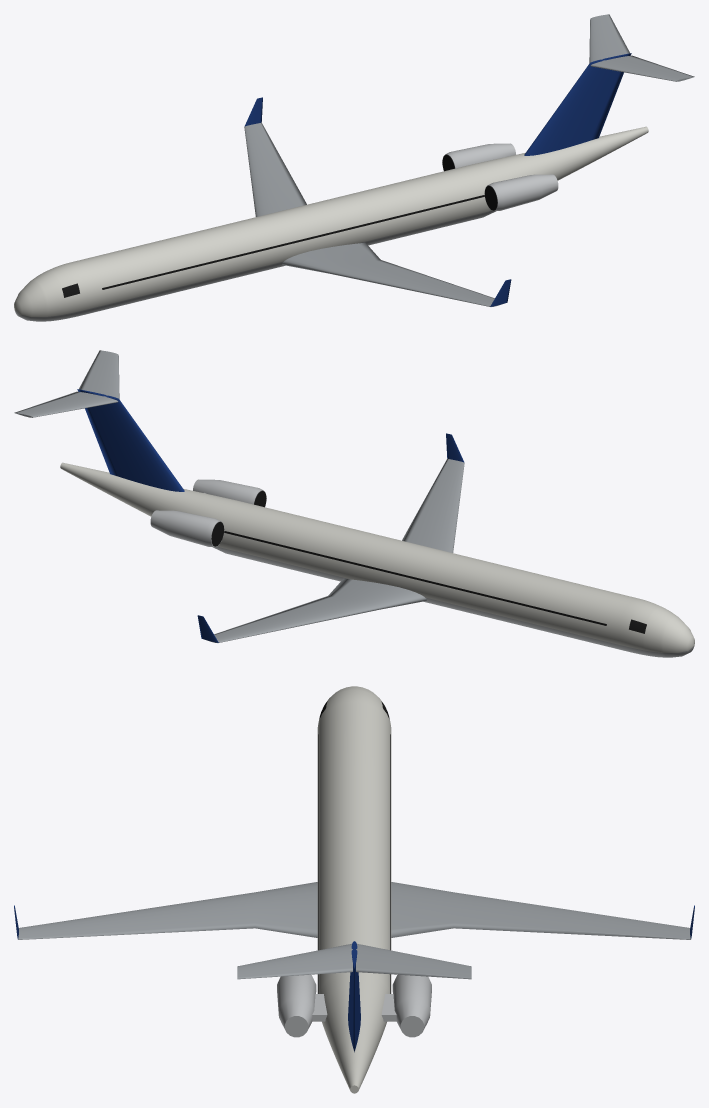
Rendered from crj9.glb.
The picture shows the model from 3 angles, top to bottom: view 1: azimuth 30°, elevation 25°; view 2: azimuth 150°, elevation 25°; view 3: azimuth 270°, elevation 25°; orthographic projection. The views are drawn at different scales.
Parts seen in each view (by area): view 1: crj9; view 2: crj9; view 3: crj9.
Part boxes in pixels (<box>): crj9: <box>14,14,694,321</box>; crj9: <box>14,350,694,657</box>; crj9: <box>14,686,694,1093</box>.
Size of the model in its own units: 36.5 by 7.02 by 24.69.
